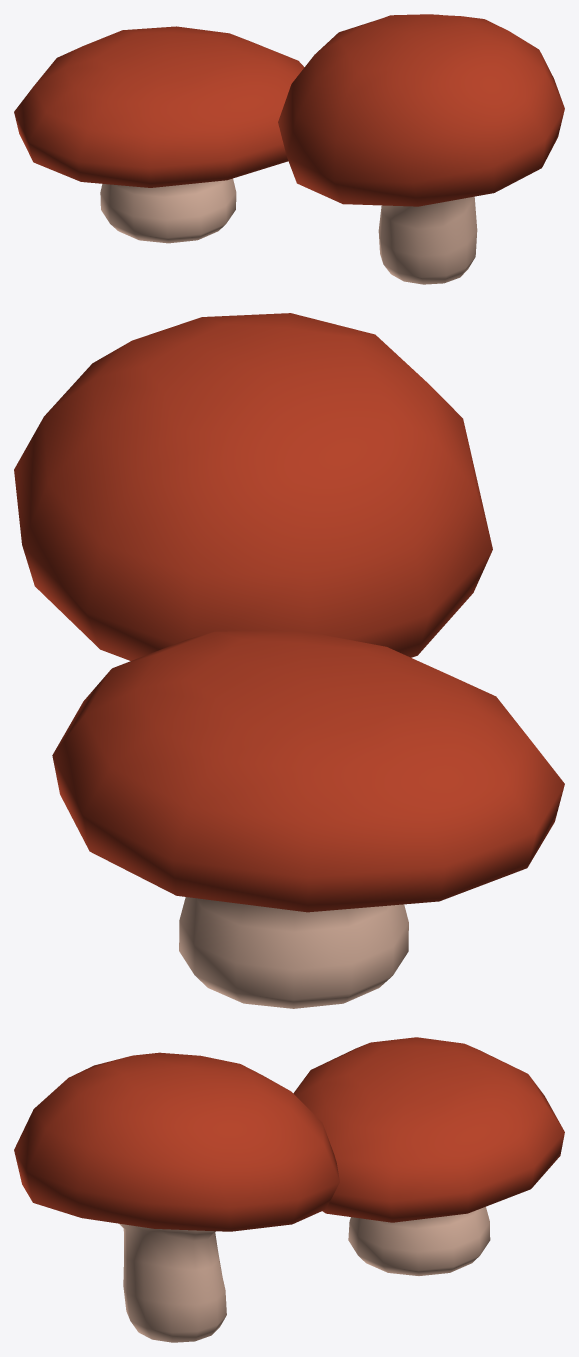
Rendered from Fungus_A_02.fbx.
The picture shows the model from 3 angles, top to bottom: view 1: azimuth 30°, elevation 25°; view 2: azimuth 150°, elevation 25°; view 3: azimuth 270°, elevation 25°; orthographic projection. The views are drawn at different scales.
Visible parts, largest first — view 1: Fungus_A_02_LOD0; view 2: Fungus_A_02_LOD0; view 3: Fungus_A_02_LOD0.
Boxes of the visible parts, x1,y1,x2,y2 form: Fungus_A_02_LOD0: (14,14,564,284); Fungus_A_02_LOD0: (14,313,564,1008); Fungus_A_02_LOD0: (14,1037,564,1342).
Size of what is drawn, in the model's own units: 327 by 189 by 370.
